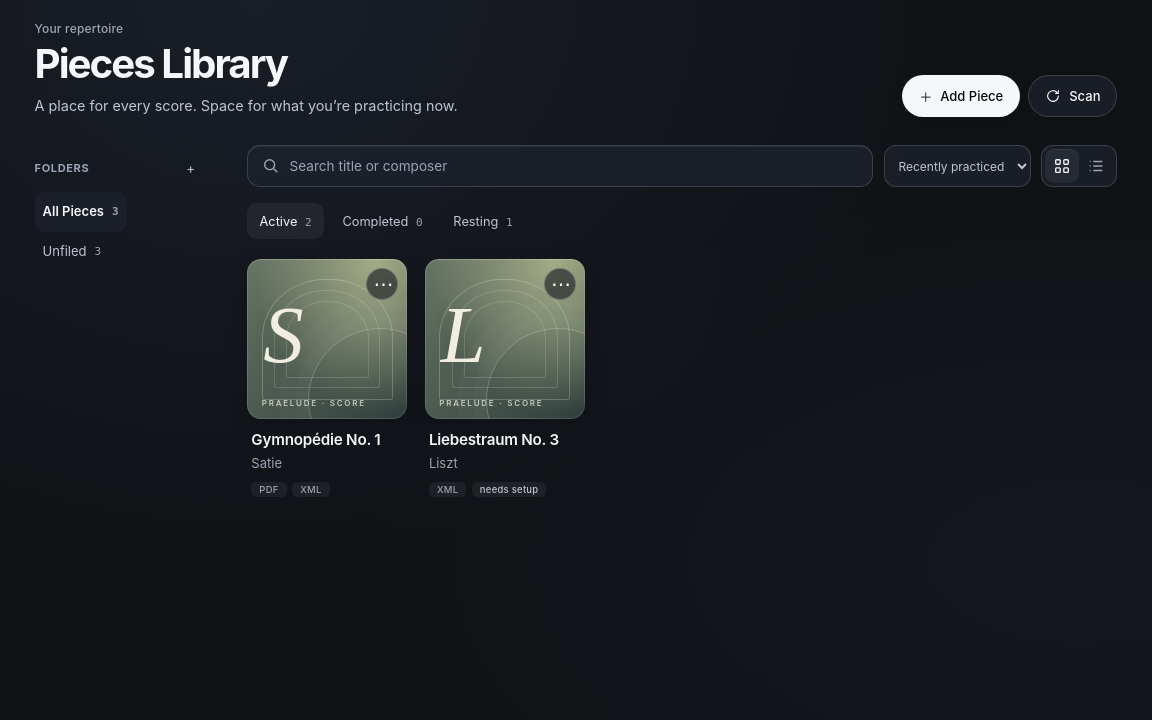
PiecesPanel › sorts active pieces by recent practice and restores from Archived
Check: the text "Old étude" is not shown
Click the tab "Resting 1": (483, 222) [441, 204, 525, 240]
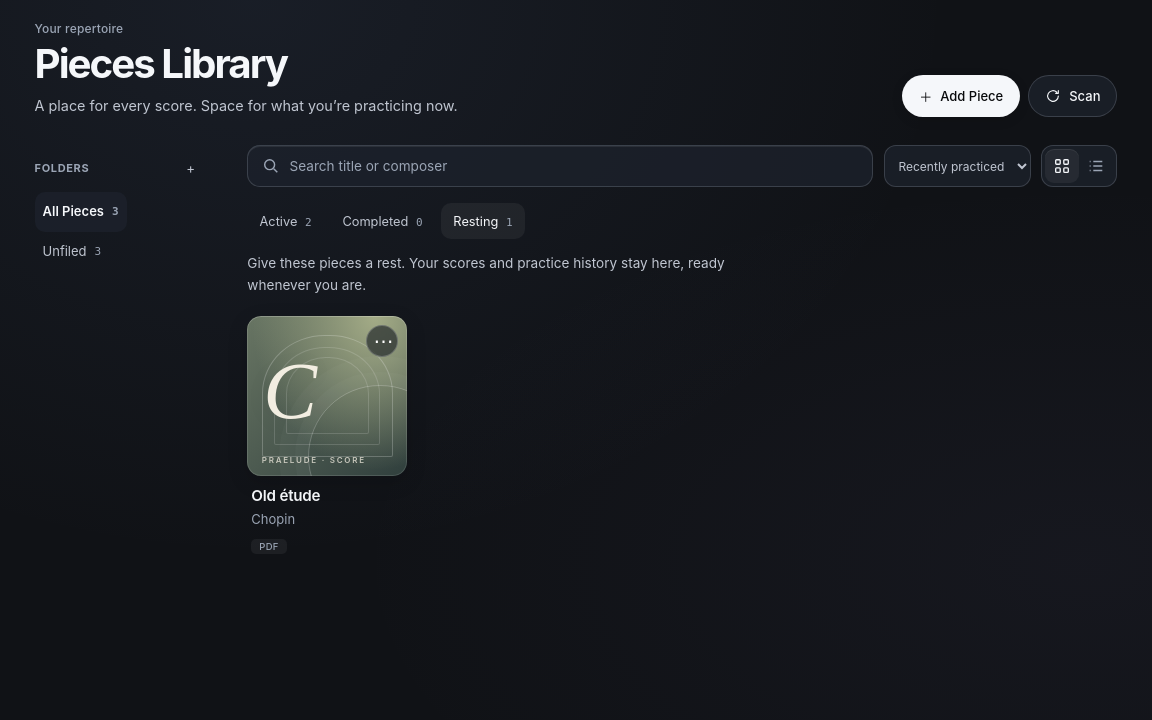
Check: the text "Old étude" is shown, box [251, 486, 320, 505]
Click the button named "Actions for Old étude": (382, 340) [366, 324, 398, 356]
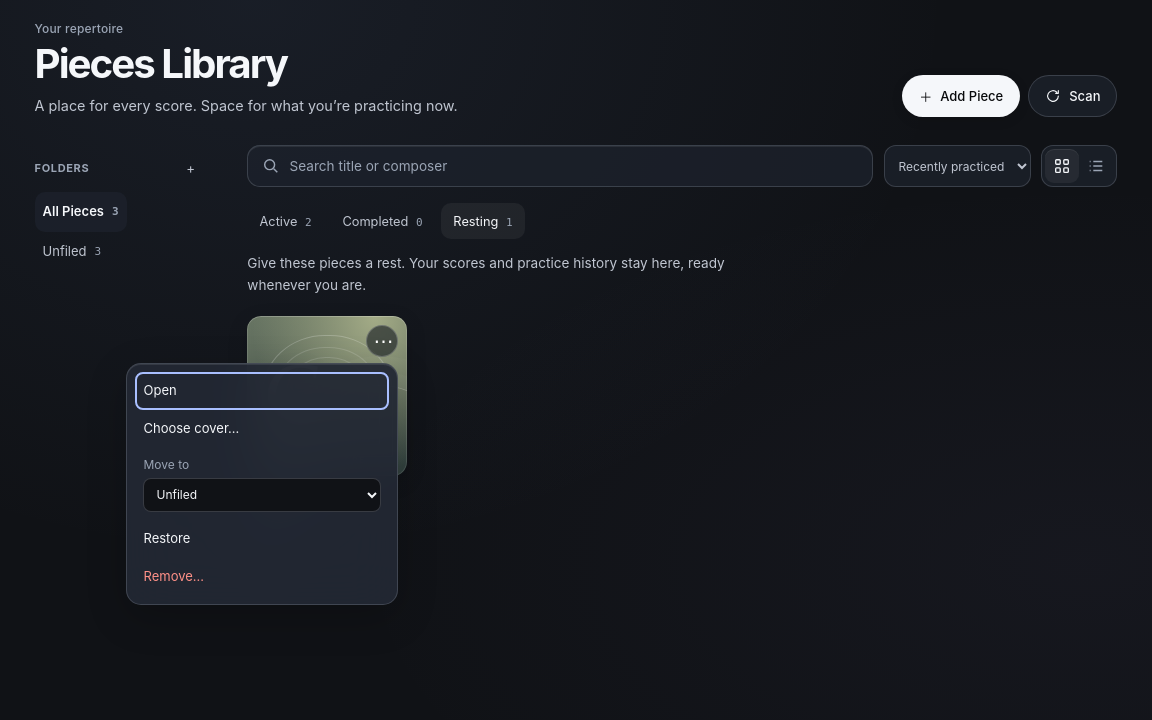
Click the menu item "Restore": (262, 538) [136, 520, 390, 558]
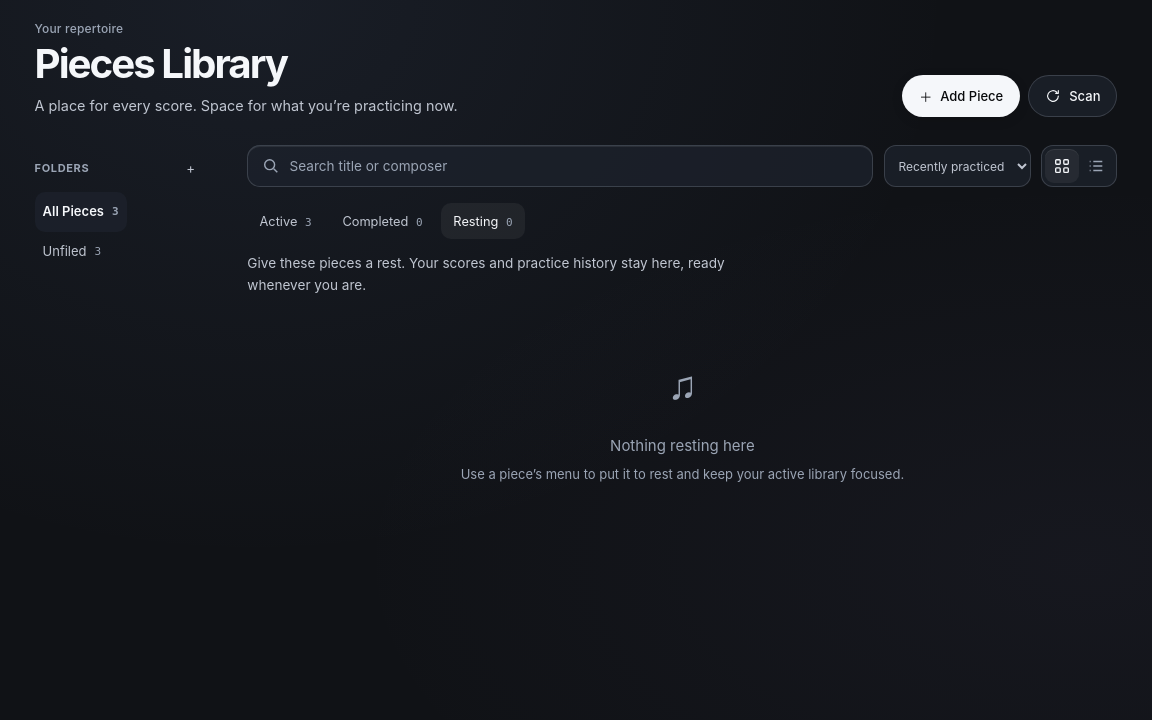
Click the tab "Active 3": (286, 222) [247, 204, 324, 240]
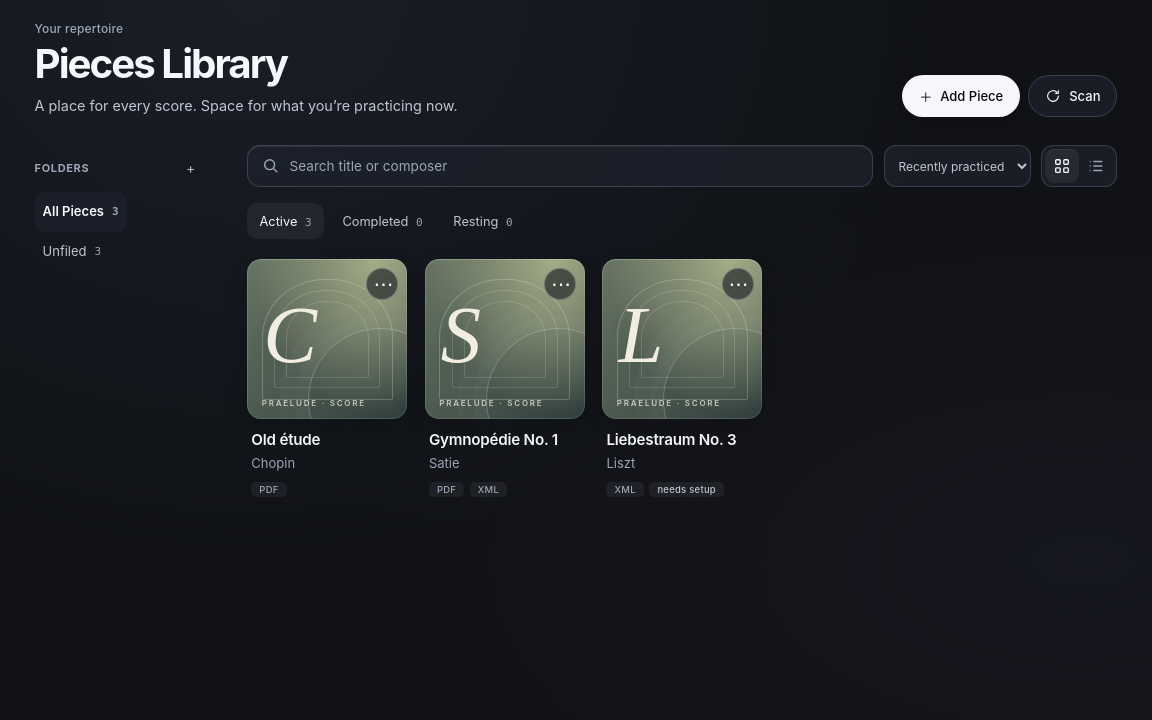
Check: the text "Old étude" is shown, box [251, 430, 320, 449]
